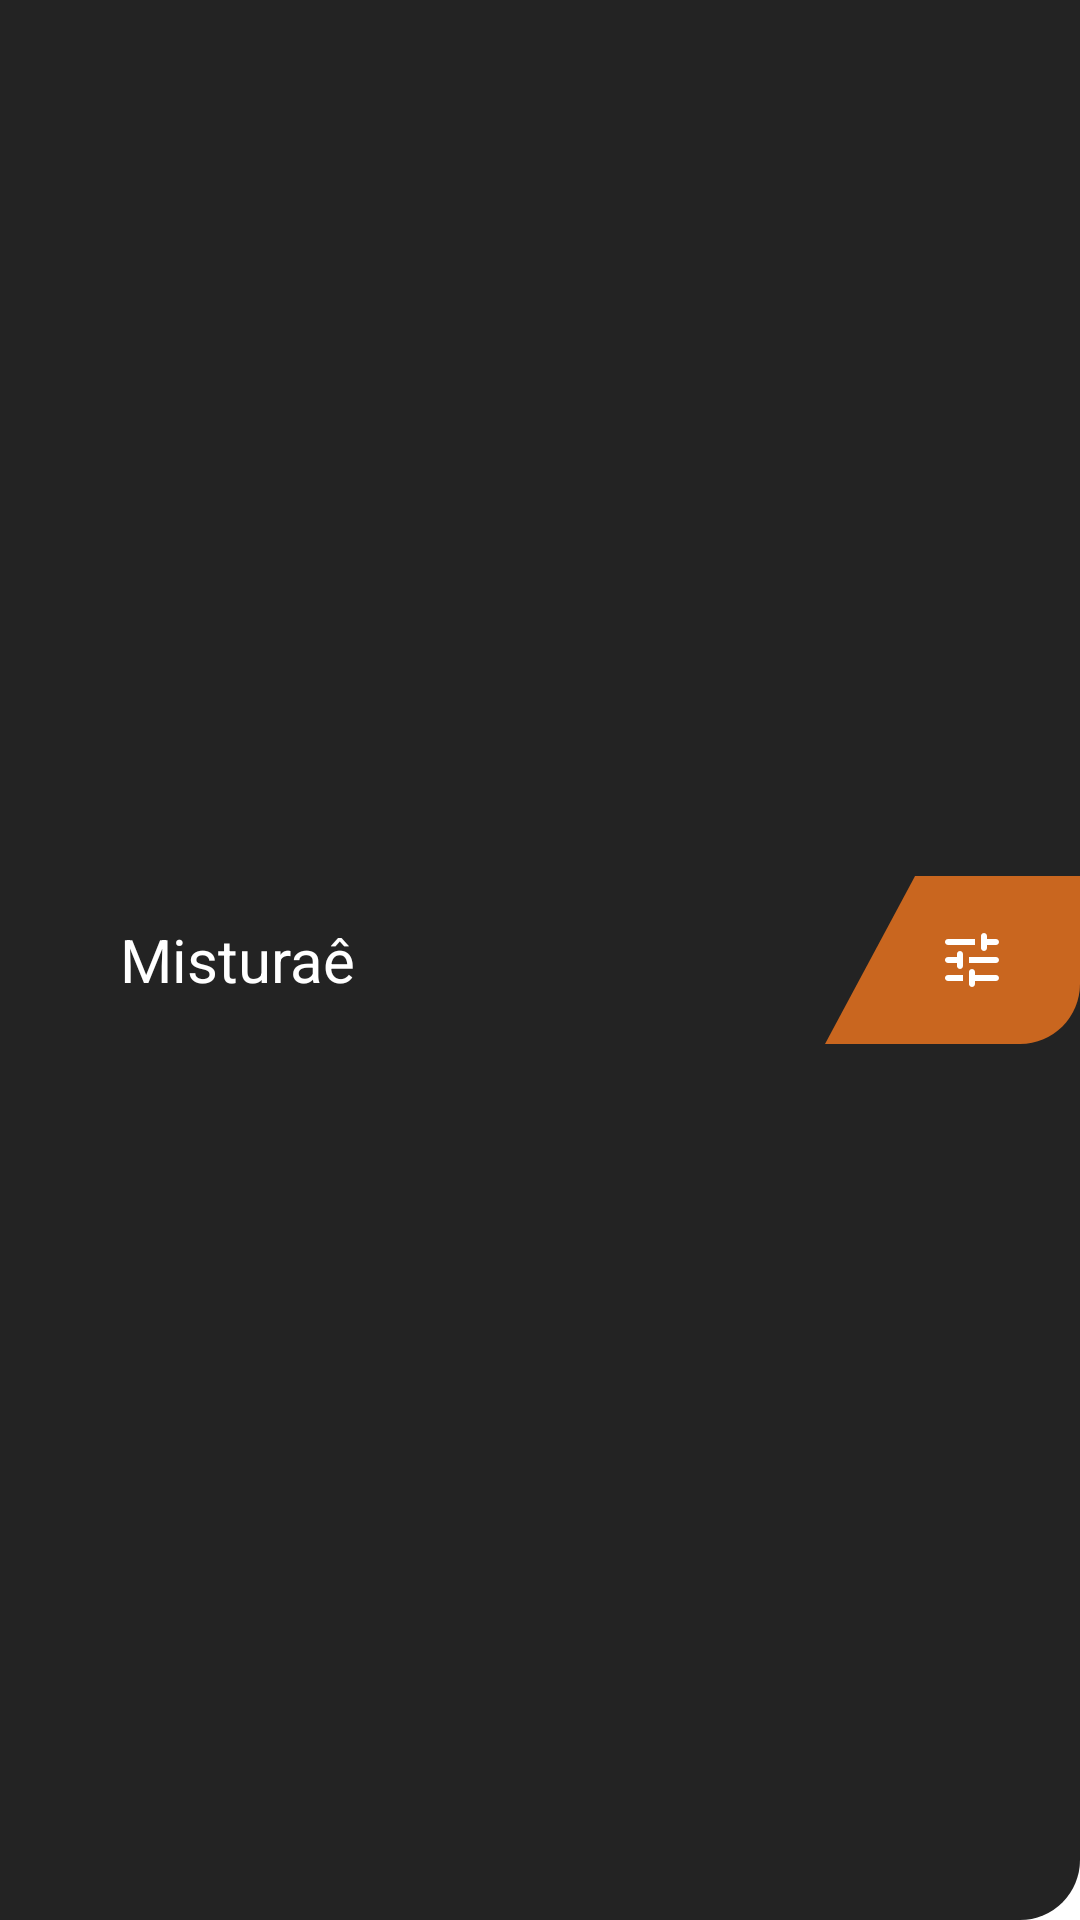

Named icons in this screenshot (1080*1920) and their centers, point (x, y):
filter: point (952, 960)
